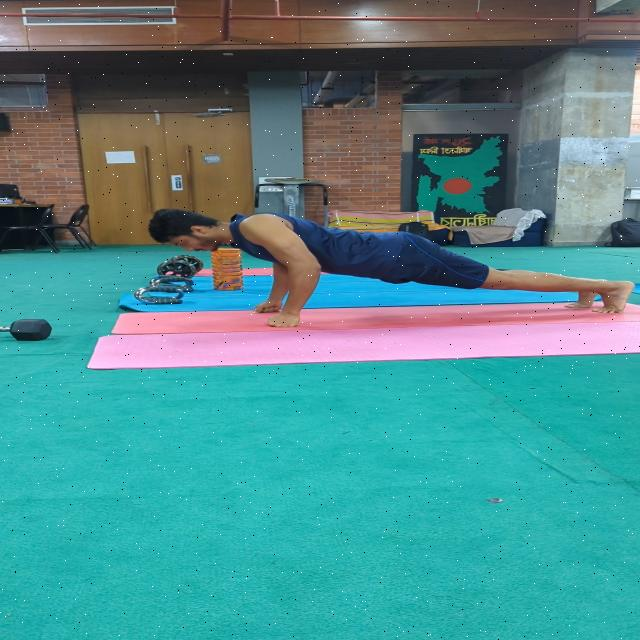Normal_PushUps: (133, 200, 637, 362)
